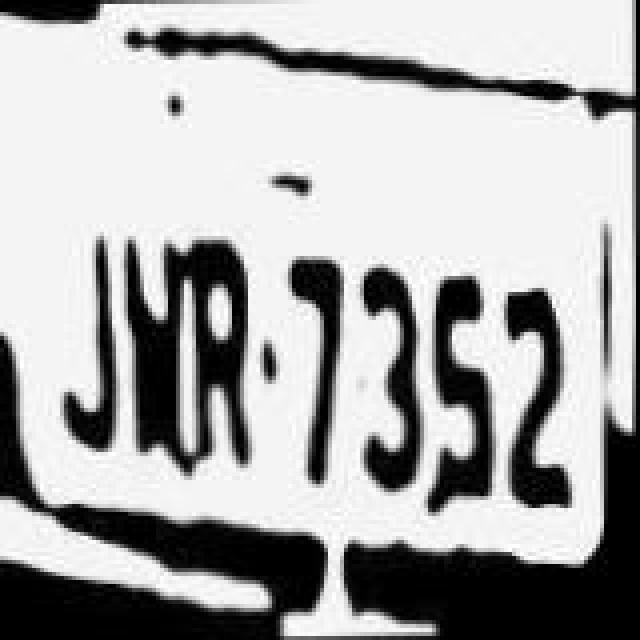2: (504, 260, 588, 524)
3: (358, 260, 438, 516)
5: (422, 260, 502, 524)
7: (280, 244, 352, 504)
J: (40, 226, 128, 478)
R: (184, 228, 256, 492)
W: (120, 216, 192, 492)
